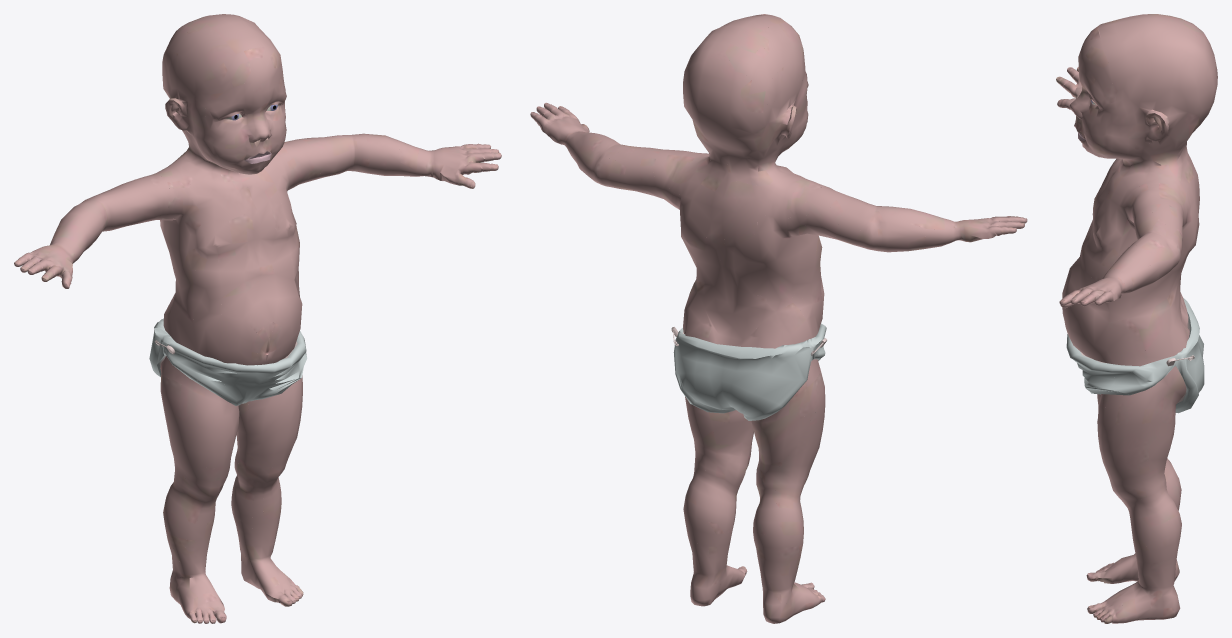
The model's file is mq8_bebe_baile.glb.
The picture shows the model from 3 angles, left to right: view 1: azimuth 30°, elevation 25°; view 2: azimuth 150°, elevation 25°; view 3: azimuth 270°, elevation 25°; orthographic projection.
Visible parts, largest first — view 1: Object_2, Object_9; view 2: Object_2, Object_9; view 3: Object_2, Object_9.
Part boxes in pixels (x1,y1,x2,y2): Object_2: [14, 14, 501, 623]; Object_9: [149, 318, 307, 405]; Object_2: [530, 14, 1027, 623]; Object_9: [673, 323, 826, 420]; Object_2: [1056, 14, 1217, 623]; Object_9: [1066, 298, 1204, 413].
Size of the model in its own units: 130 by 149 by 37.58.
Materials: 10 (1 with a texture image).
